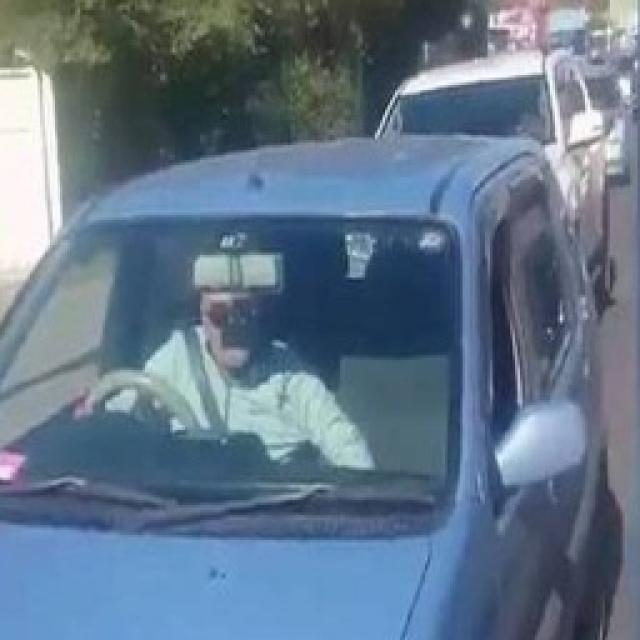windshield: (20, 221, 461, 492)
